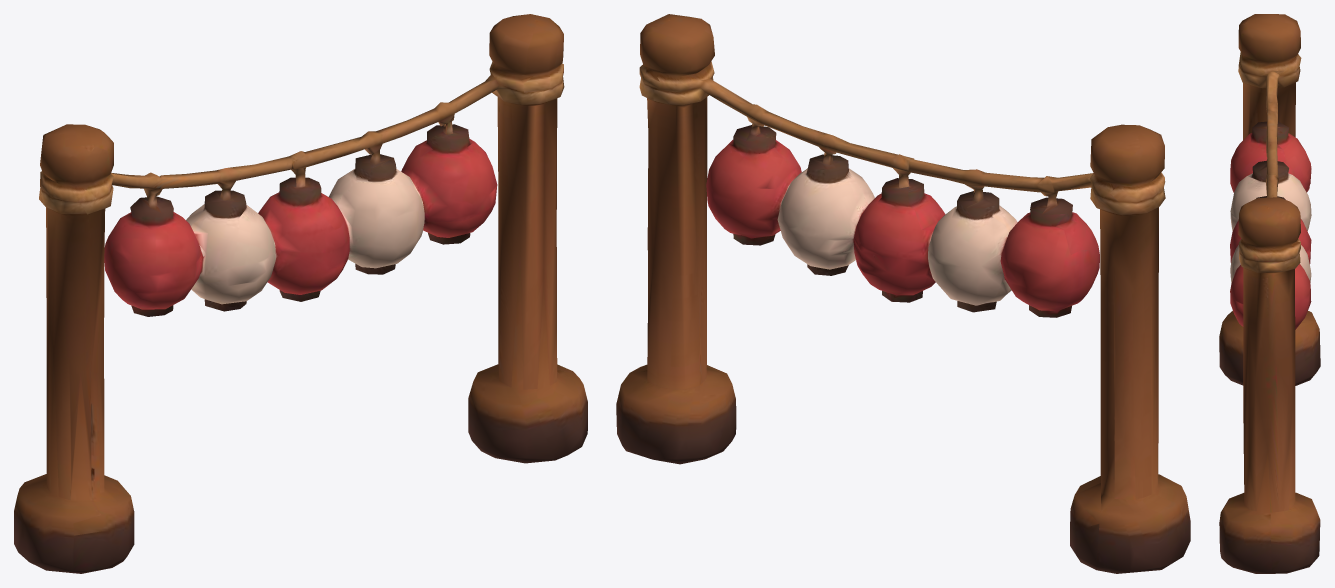
File: lanterns.glb
3 renders of one model, left to right at view 1: azimuth 30°, elevation 25°; view 2: azimuth 150°, elevation 25°; view 3: azimuth 270°, elevation 25°, orthographic. The views are drawn at different scales.
Visible parts, largest first — view 1: model; view 2: model; view 3: model.
Boxes of the visible parts, left/top/right/bottom form: model: left=14, top=14, right=587, bottom=573; model: left=616, top=14, right=1190, bottom=573; model: left=1219, top=14, right=1320, bottom=573.
Size of the model in its own units: 1.89 by 1.38 by 0.3567.
1 material, 1 textured.
